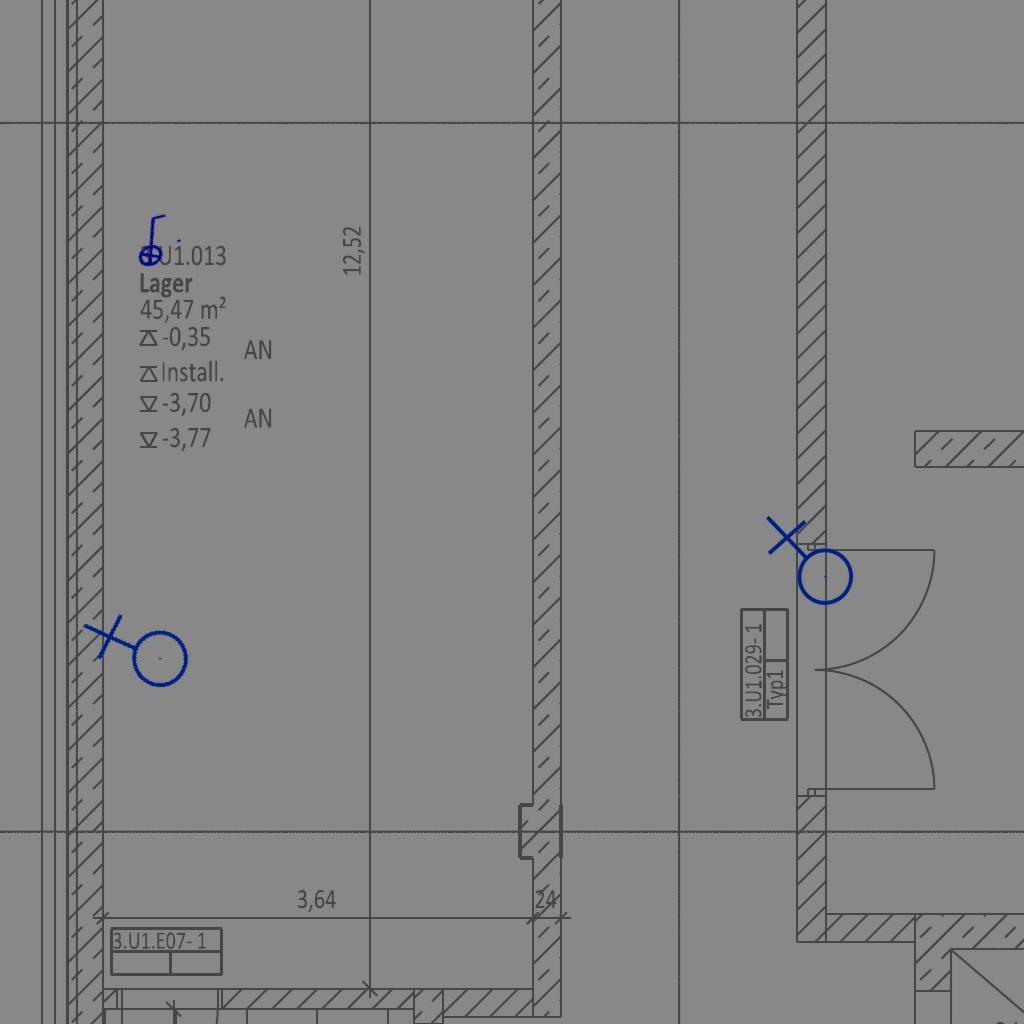Ausschalter_beleuchtet: (116, 205, 188, 275)
Elektroanschluss_allgemein_230V_Geraeteanschlussdose_230V: (77, 590, 202, 718), (761, 515, 855, 614)
